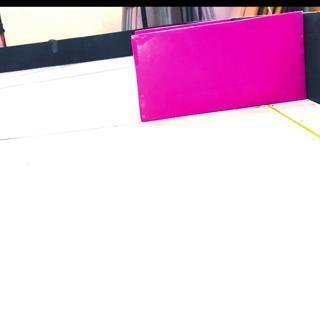xparking: (136, 24, 304, 109)
